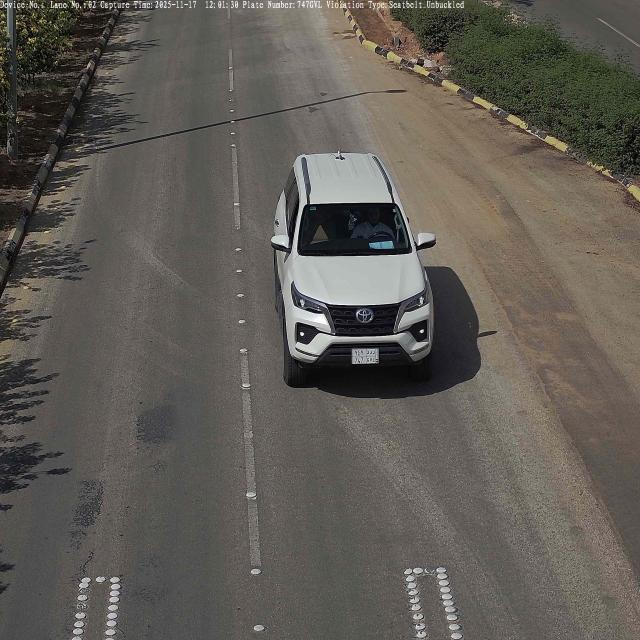person_without_seatbelt: (350, 207, 394, 243)
